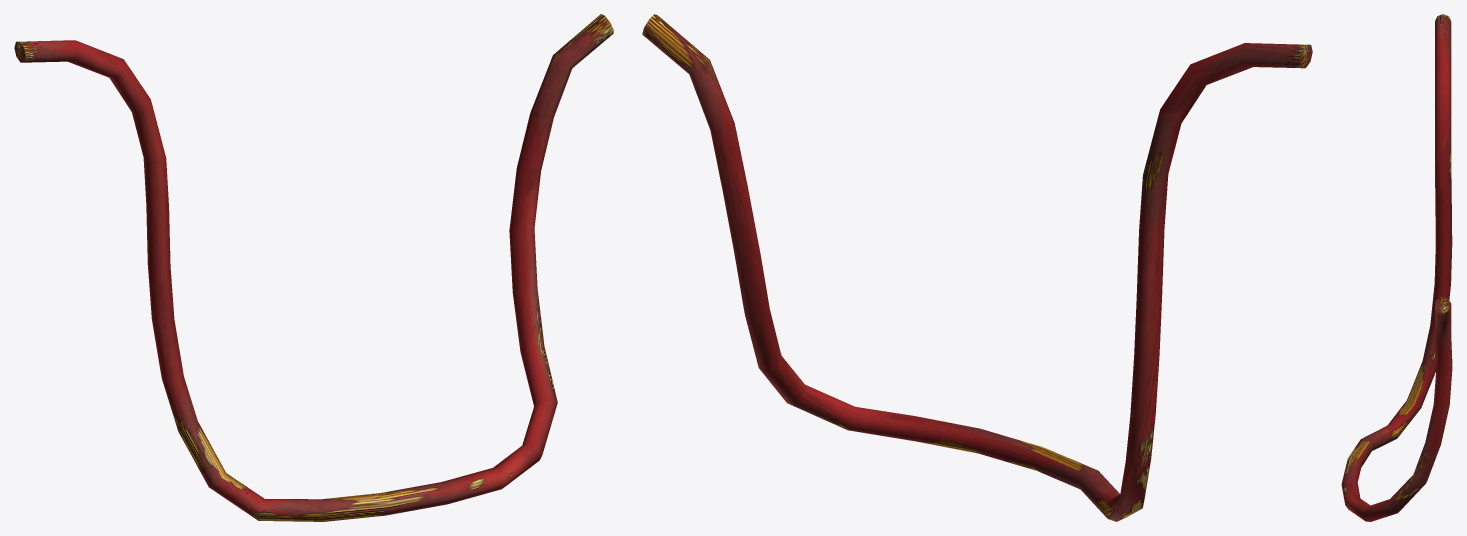
The model's file is computer_case_cable.DAE.
The picture shows the model from 3 angles, left to right: view 1: azimuth 30°, elevation 25°; view 2: azimuth 150°, elevation 25°; view 3: azimuth 270°, elevation 25°; orthographic projection. The views are drawn at different scales.
Parts seen in each view (by area): view 1: Cylinder01; view 2: Cylinder01; view 3: Cylinder01.
Boxes of the visible parts, x1,y1,x2,y2 form: Cylinder01: (14,14,613,521); Cylinder01: (642,14,1312,521); Cylinder01: (1341,14,1452,521).
Bounding box in the file's own units: 0.6658 × 0.1535 × 0.5412.
